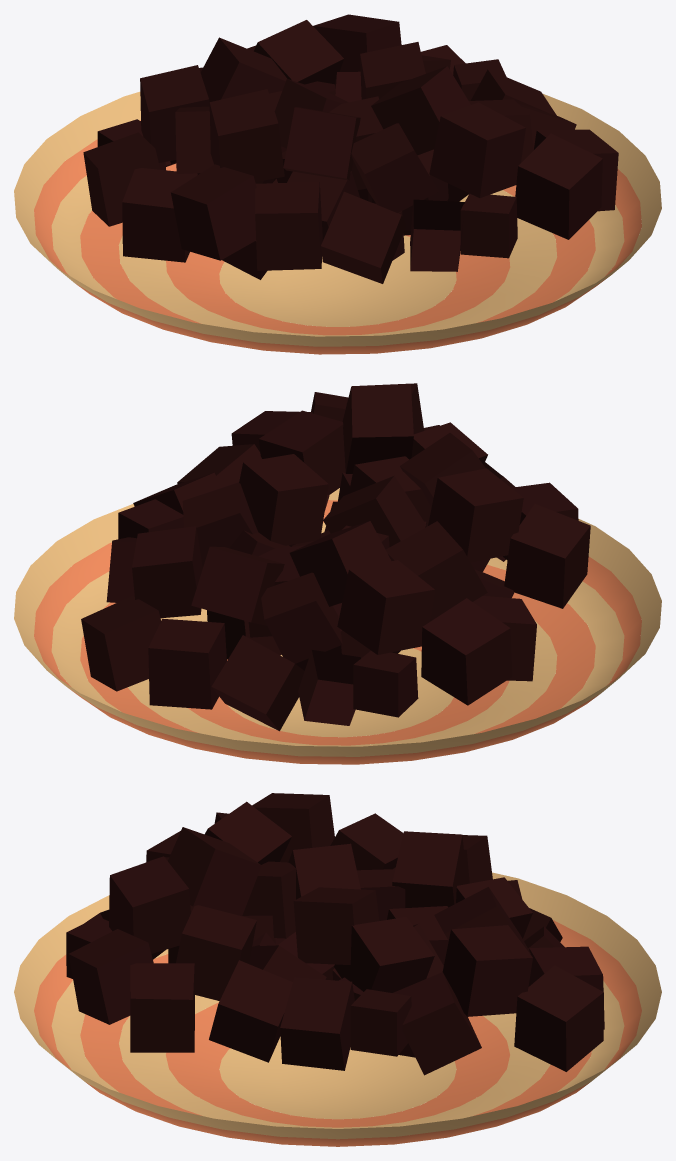
Rendered from Cincau.glb.
3 renders of one model, top to bottom at view 1: azimuth 30°, elevation 25°; view 2: azimuth 150°, elevation 25°; view 3: azimuth 270°, elevation 25°, orthographic.
Parts seen in each view (by area): view 1: Plate Cincau.001; view 2: Plate Cincau.001; view 3: Plate Cincau.001.
Part boxes in pixels (x1=…): Plate Cincau.001: x1=14, y1=14, x2=661, y2=354; Plate Cincau.001: x1=14, y1=383, x2=661, y2=764; Plate Cincau.001: x1=14, y1=793, x2=661, y2=1146.
Bounding box in the file's own units: 7.22 × 3.21 × 7.22.
